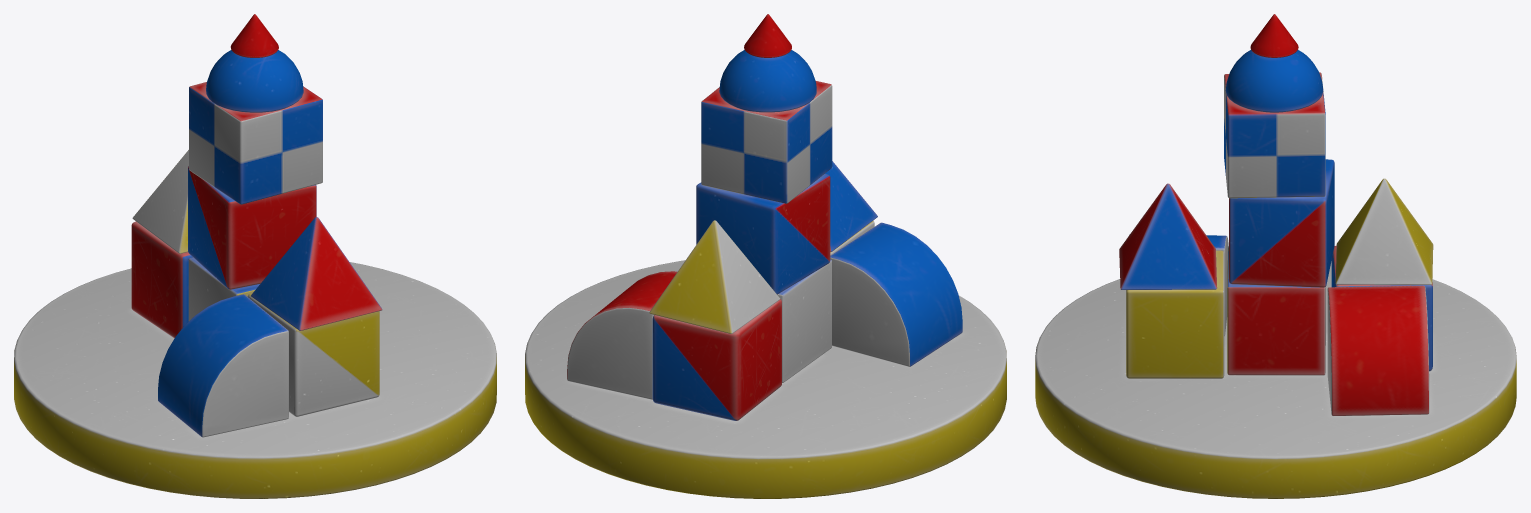
File: JModel.glb
The picture shows the model from 3 angles, left to right: view 1: azimuth 30°, elevation 25°; view 2: azimuth 150°, elevation 25°; view 3: azimuth 270°, elevation 25°; orthographic projection.
Visible parts, largest first — view 1: SimpleForms_0; view 2: SimpleForms_0; view 3: SimpleForms_0.
Part boxes in pixels (x1,y1,x2,y2): SimpleForms_0: (14,14,496,498); SimpleForms_0: (525,14,1006,498); SimpleForms_0: (1035,14,1516,498).
Size of the model in its own units: 6.81 by 5.98 by 6.81.
1 material, 1 textured.
